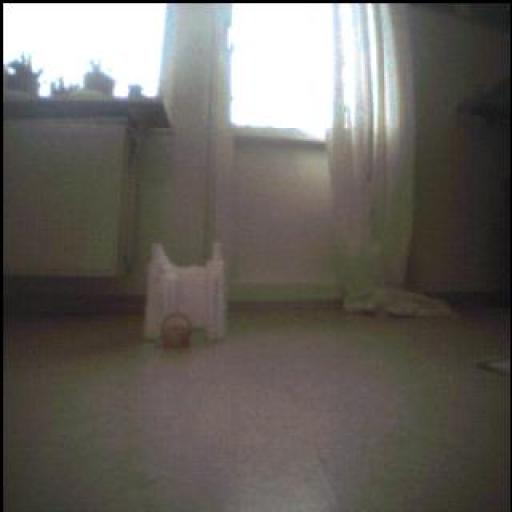Basket: (163, 313, 193, 350)
